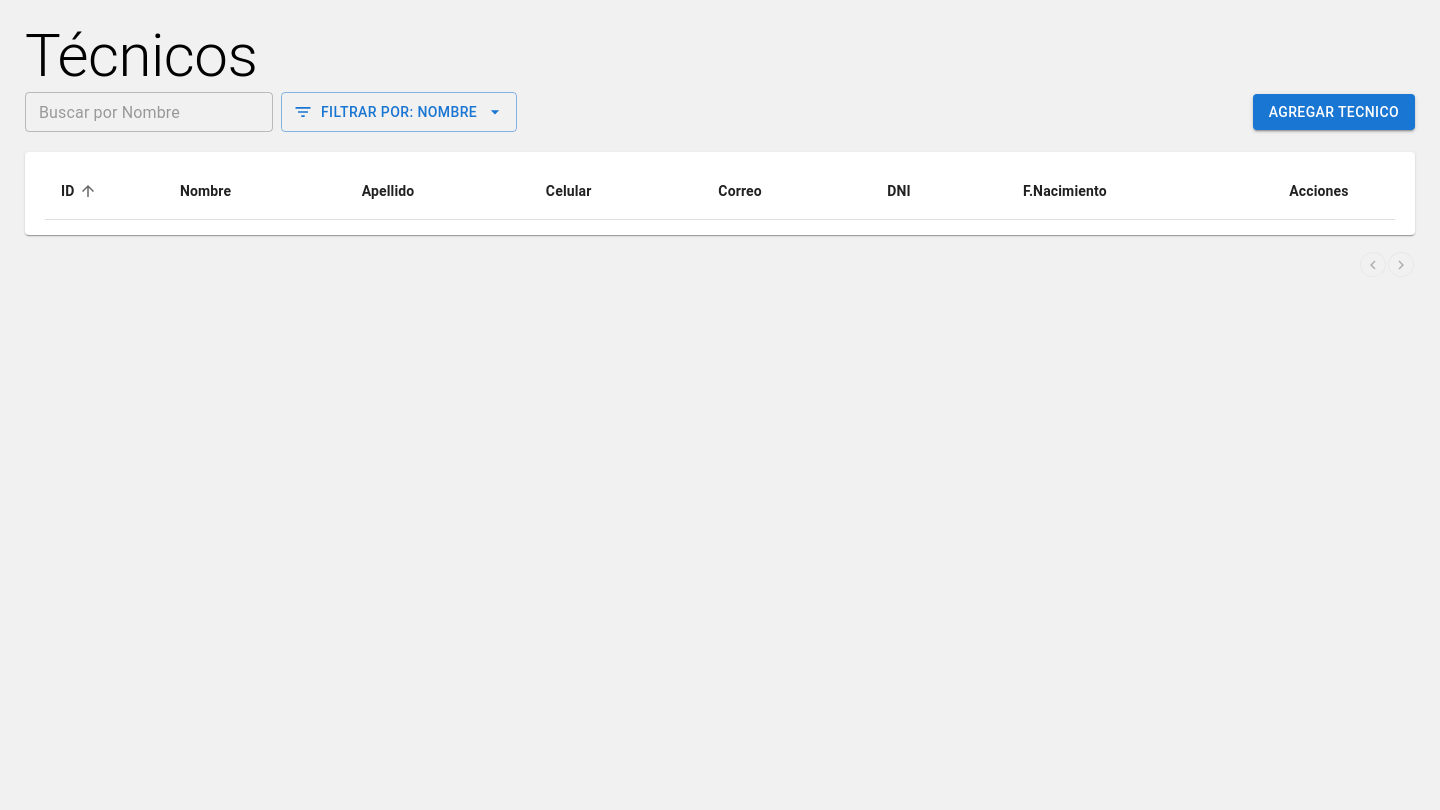
Test: TechsTable › debe abrir el modal para agregar un técnico
Click the button "Agregar tecnico": click(1334, 112) [1253,94,1415,130]
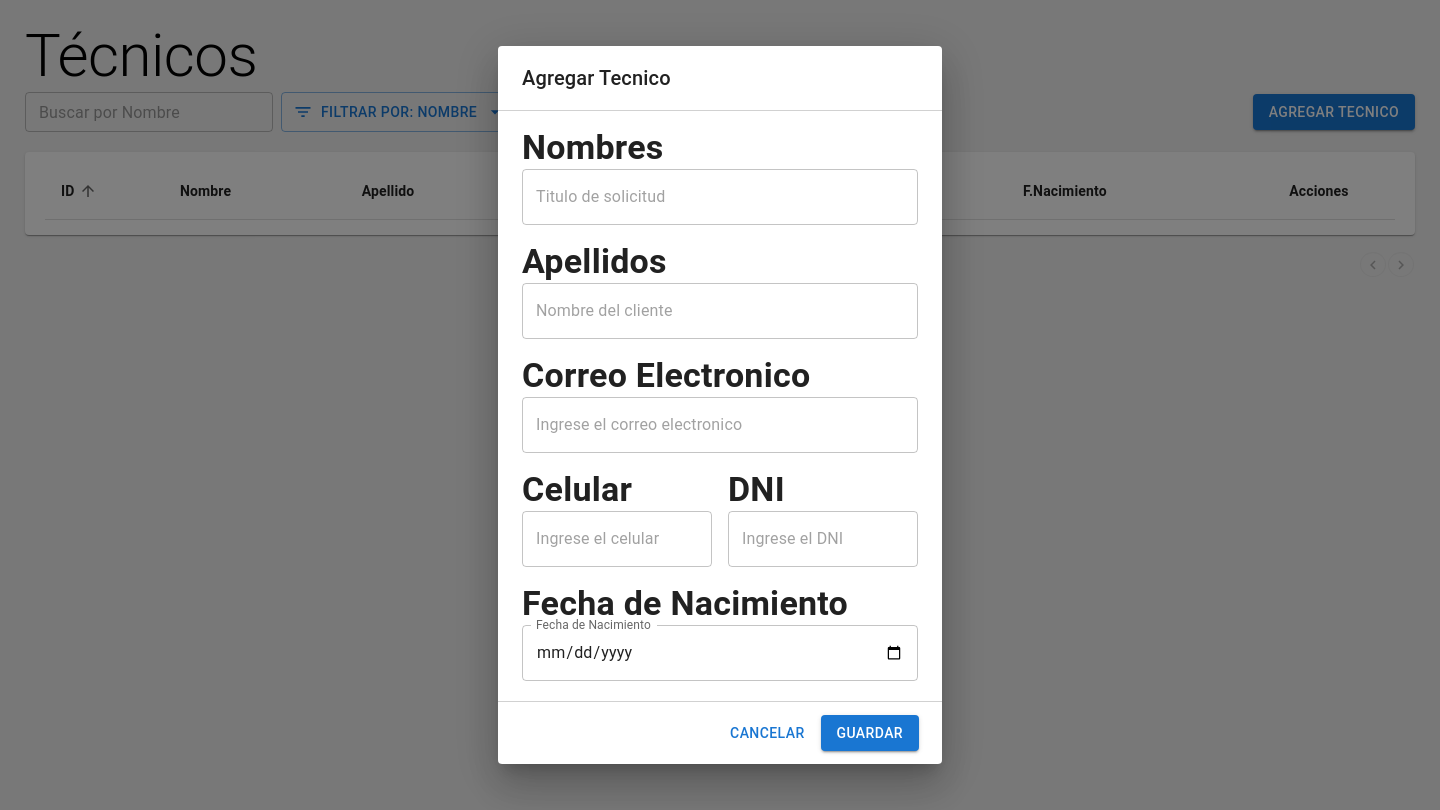
Result: the dialog is shown at [498,46,942,764]
